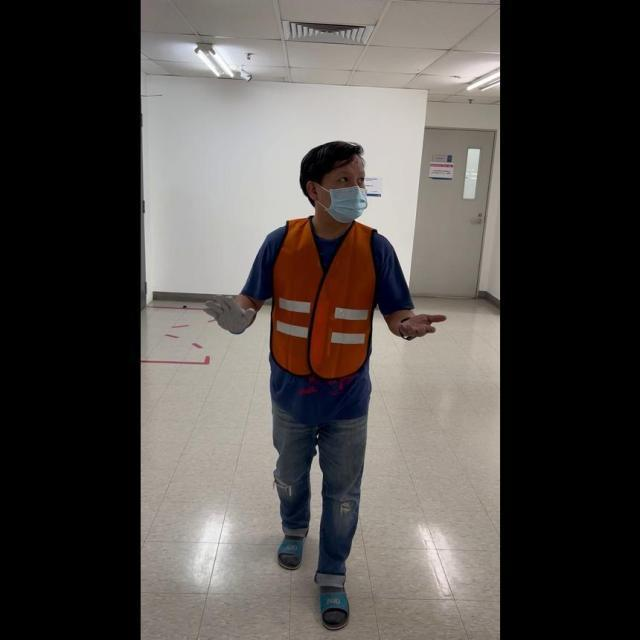bare_hand: (396, 305, 446, 341)
gloved_hand: (202, 287, 255, 334)
